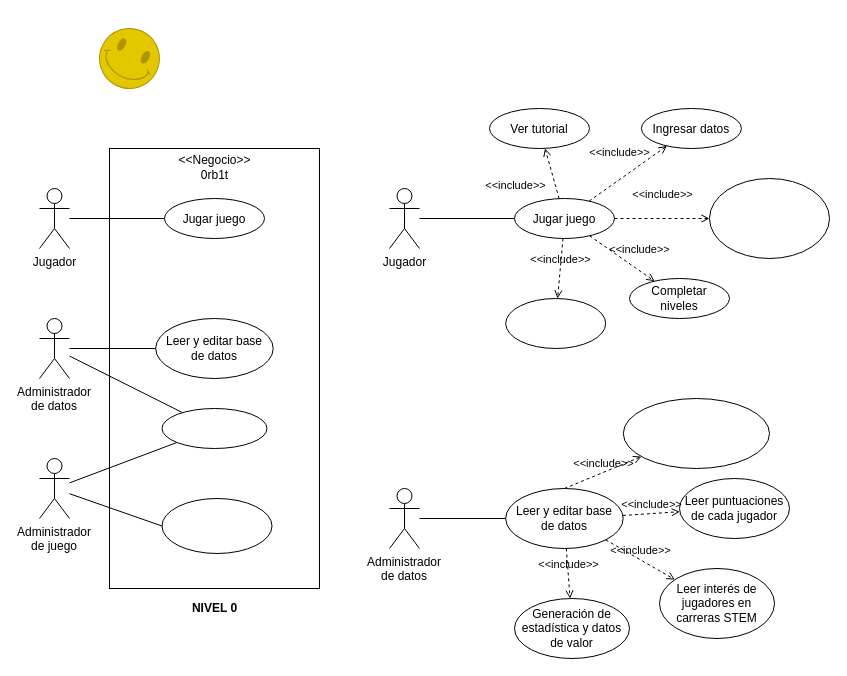
Image size: 847x676. Some labels were removed from this diagram. The shapes that lost their labels are listed below. From the top down, each one's centre as x and y in pixels, then its label:
At (x=769, y=218): "Indicar nivel de interés en información de STEM".
At (x=555, y=323): "Ver pantalla de final de juego".
At (x=214, y=428): "Ver dashboard".
At (x=696, y=433): "Leer edad, género y datos registrados por los jugadores".
At (x=216, y=526): "Monitorear estado del juego".
